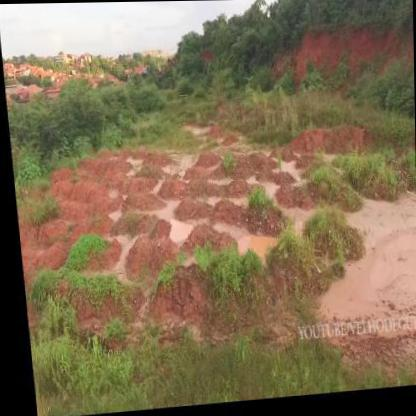agua: (233, 232, 270, 264), (165, 216, 189, 246)
